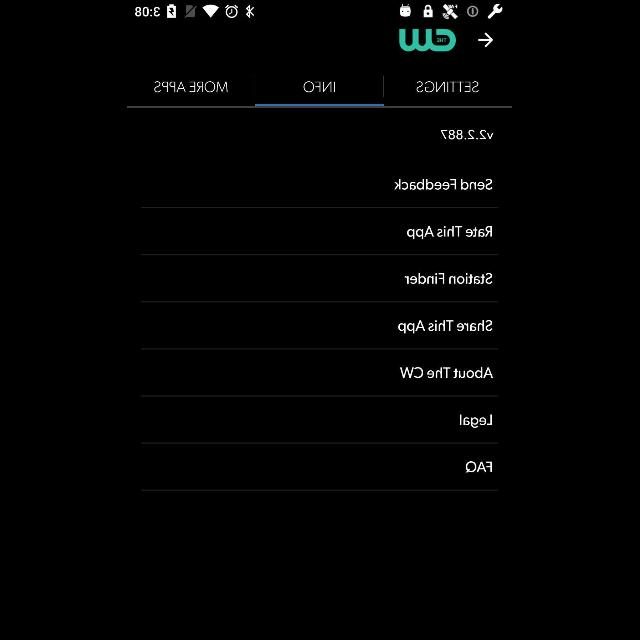icon: (478, 32, 494, 48)
image: (399, 28, 456, 52)
text: (399, 320, 493, 334), (408, 226, 492, 240), (395, 178, 493, 190), (401, 367, 494, 379), (405, 273, 493, 285), (155, 81, 229, 93), (417, 81, 479, 93), (442, 130, 494, 140), (461, 414, 493, 428), (304, 81, 336, 93), (466, 461, 492, 473)
uppertaskbar: (128, 1, 512, 23)
